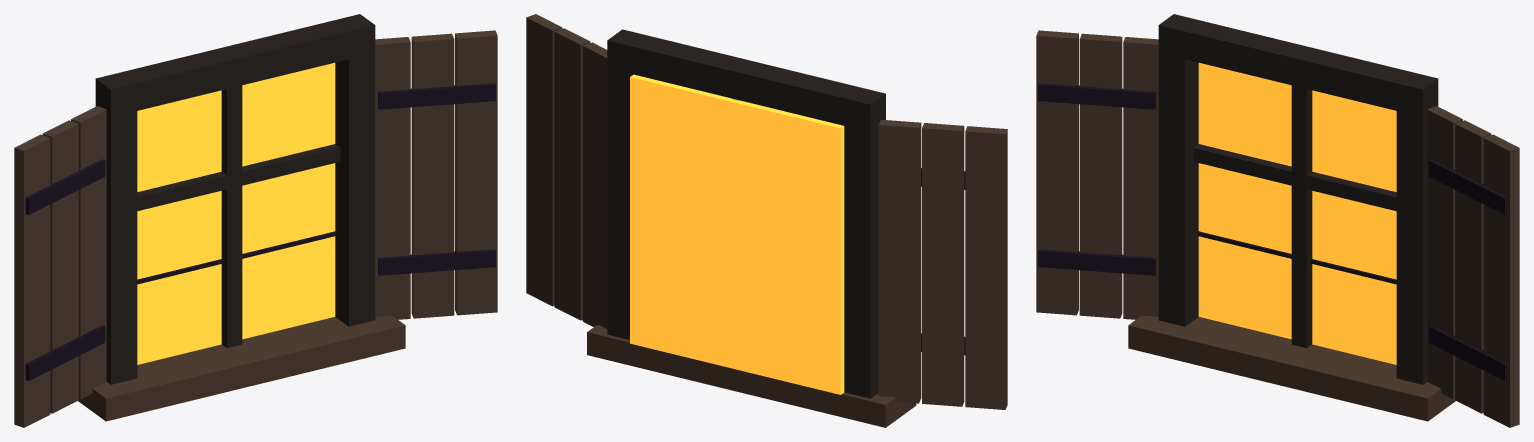
File: kit_timber_window_lit.glb
The picture shows the model from 3 angles, left to right: view 1: azimuth 30°, elevation 25°; view 2: azimuth 150°, elevation 25°; view 3: azimuth 330°, elevation 25°; orthographic projection.
Visible parts, largest first — view 1: kit_timber_window_lit; view 2: kit_timber_window_lit; view 3: kit_timber_window_lit.
Boxes of the visible parts, <box> form: kit_timber_window_lit: <box>14,14,497,427</box>; kit_timber_window_lit: <box>526,14,1007,427</box>; kit_timber_window_lit: <box>1036,14,1519,427</box>.
Size of the model in its own units: 1.09 by 0.69 by 0.1501.
